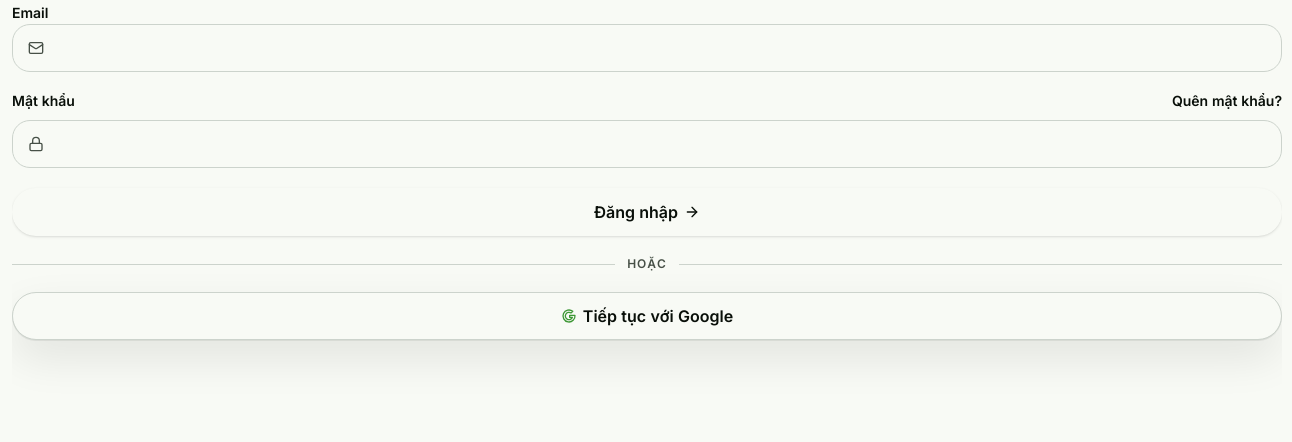
Scenario: LoginForm › shows missing role error without role picker fallback
Type "missing-role@gymmaster.local" into the field labelled "Email" at (647, 48), box top-left (12, 24), bottom-right (1282, 72)
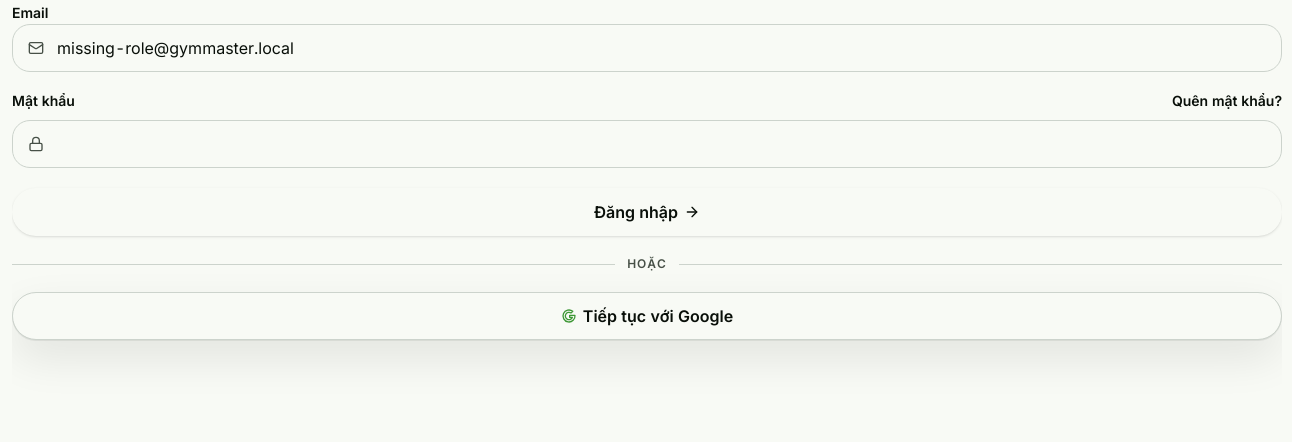
Type "Password123!" into the password field labelled "Mật khẩu" at (647, 144), box top-left (12, 120), bottom-right (1282, 168)
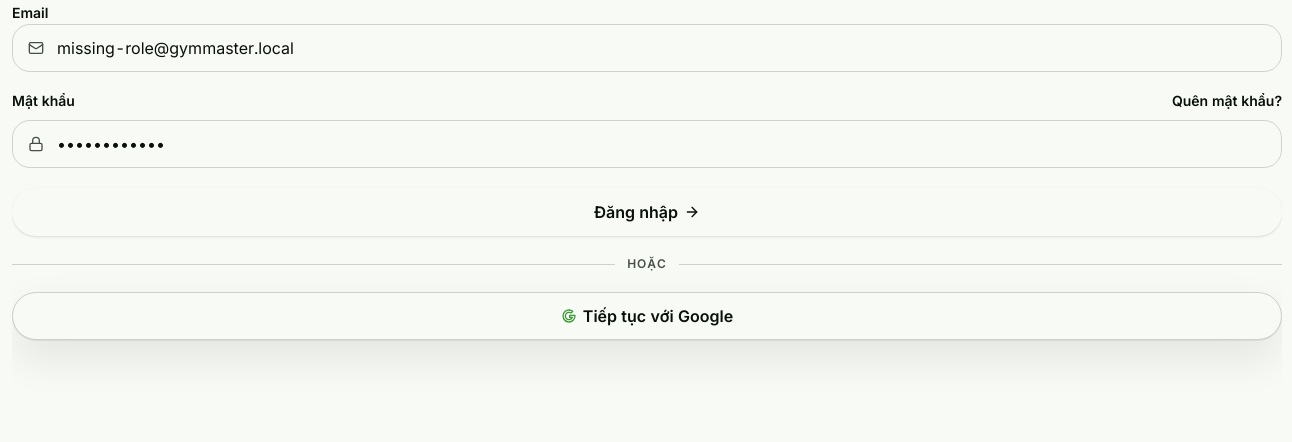
Click the button "Đăng nhập" at (647, 212), box top-left (12, 188), bottom-right (1282, 236)
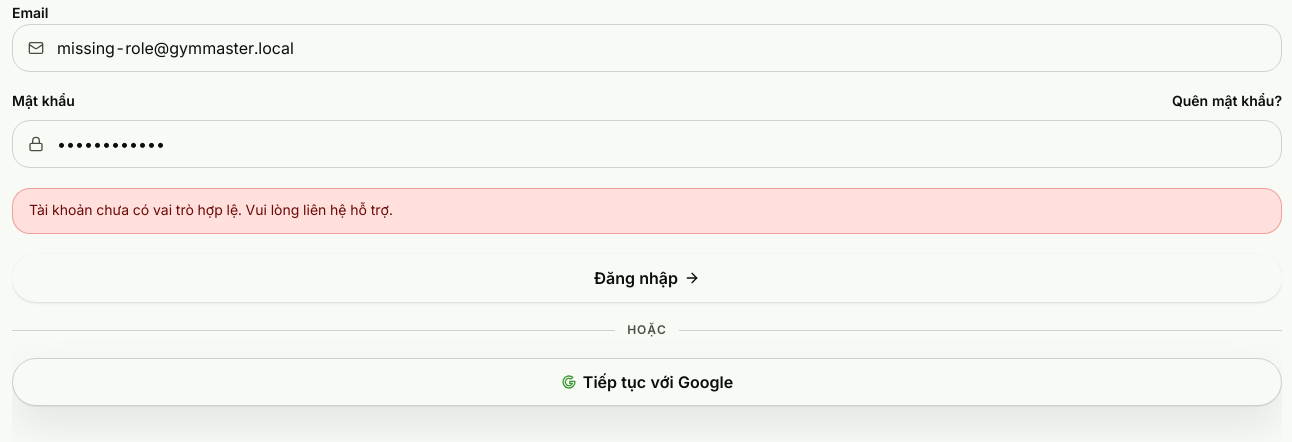
Expected: the text "Tài khoản chưa có vai trò hợp lệ. Vui lòng liên hệ hỗ trợ." is shown, top-left (12, 188), bottom-right (1282, 234)
